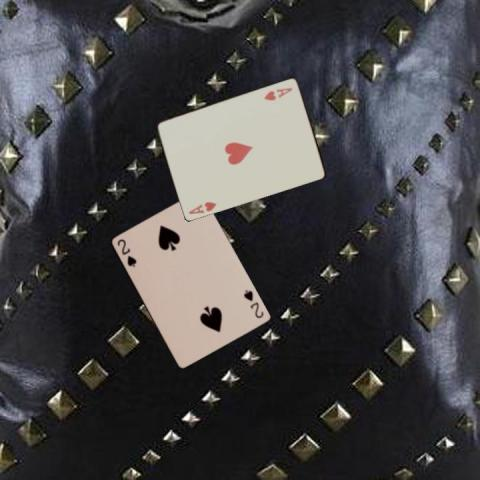2s: (114, 236, 138, 269), (240, 287, 264, 320)
Ah: (261, 85, 294, 102), (185, 199, 218, 215)
